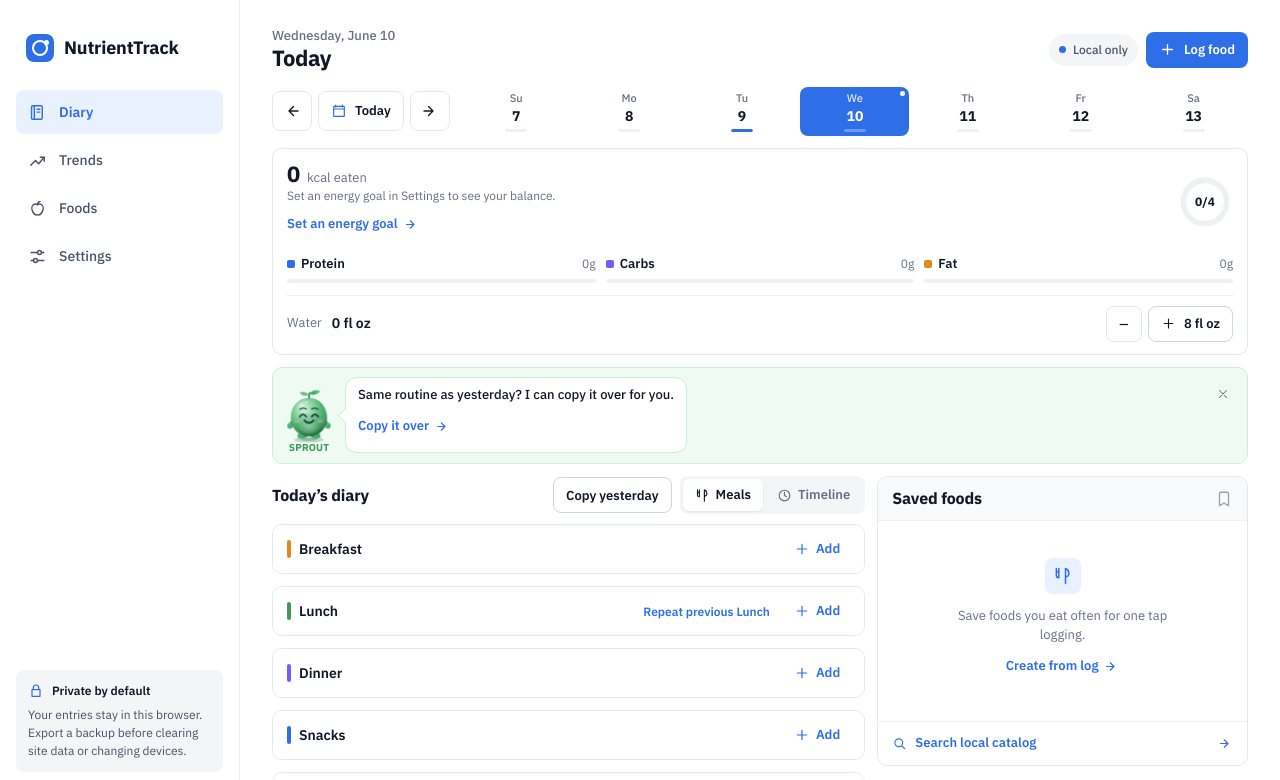
Test: copy a day › defaults_to_today_when_viewing_another_day
What coordinates should you click on to do the following:
click the button named "Previous day"
I would click on:
 (292, 111)
Its box is [272,91,312,131].
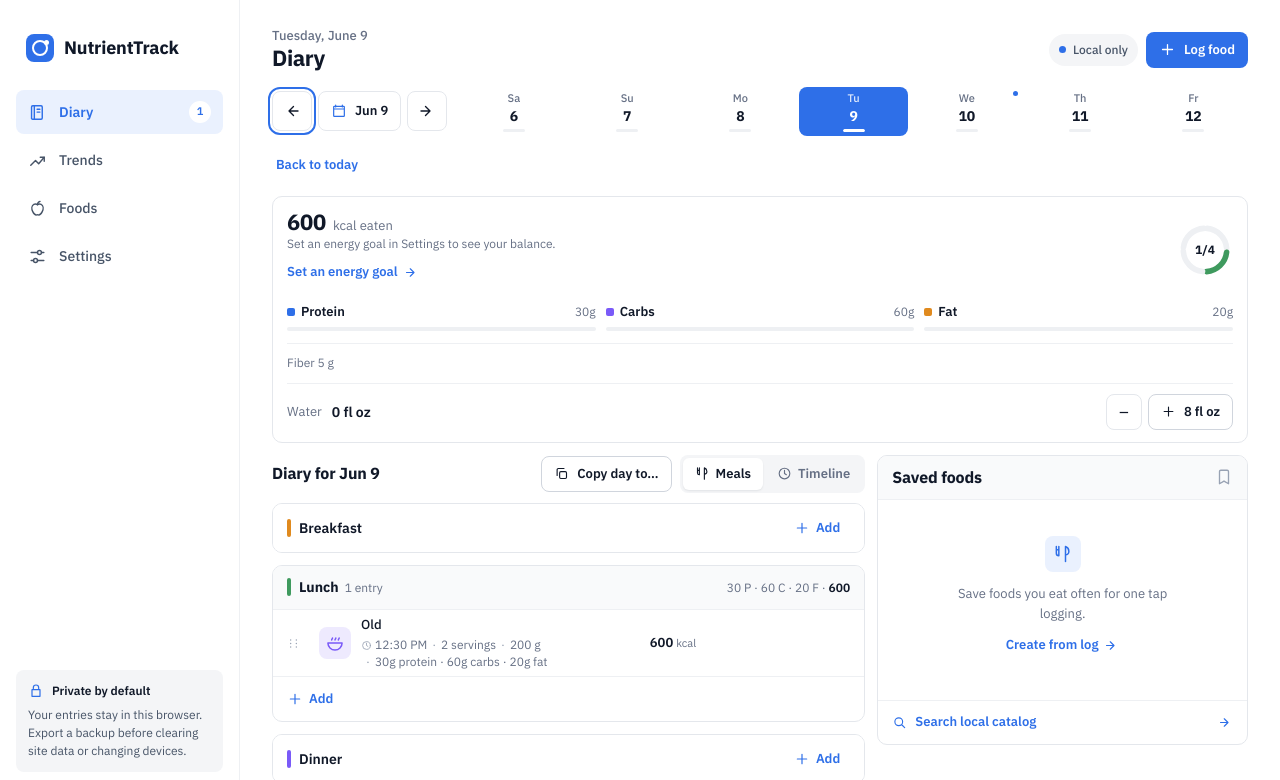
What coordinates should you click on to do the following:
click the button "Copy day to…"
I would click on:
 (606, 474)
Its box is [541,456,672,492].
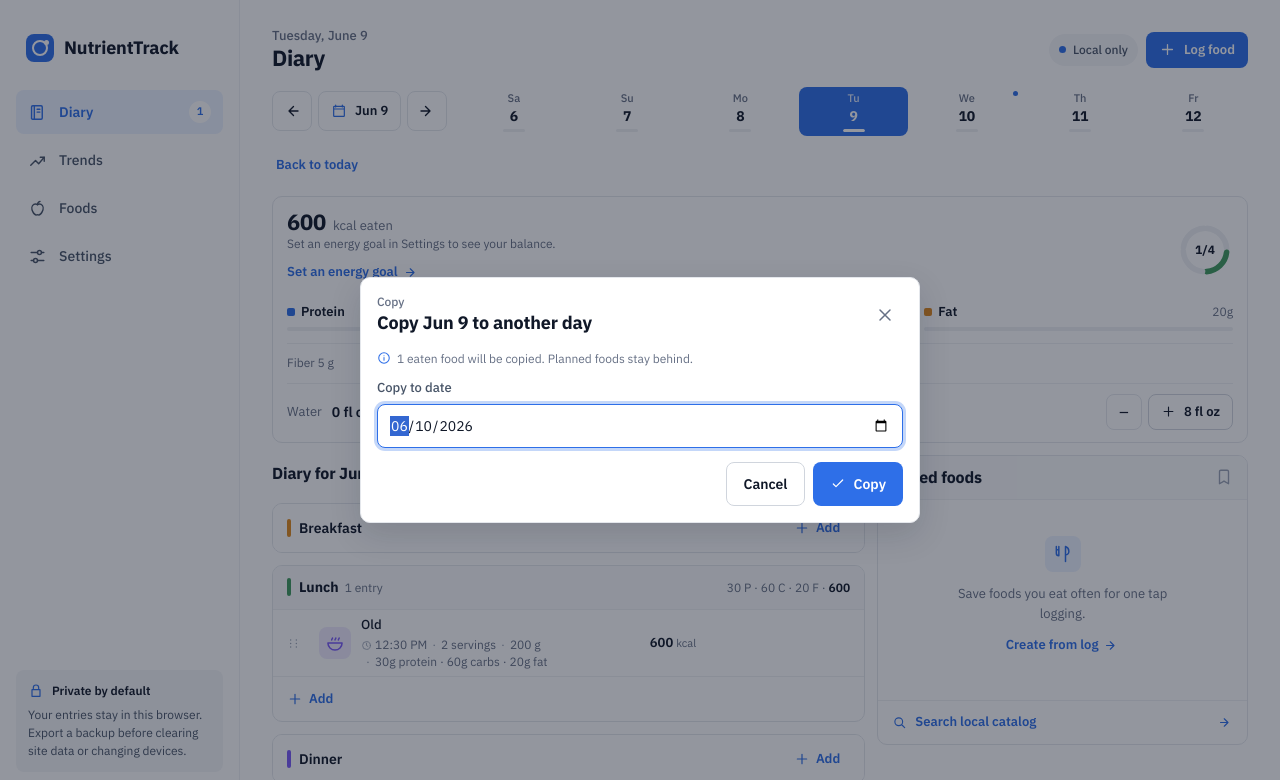
expect the dialog is shown: met, box [360,277,920,523]
expect the date field labelled "Copy to date" holds "2026-06-10": met, box [377,404,903,448]
